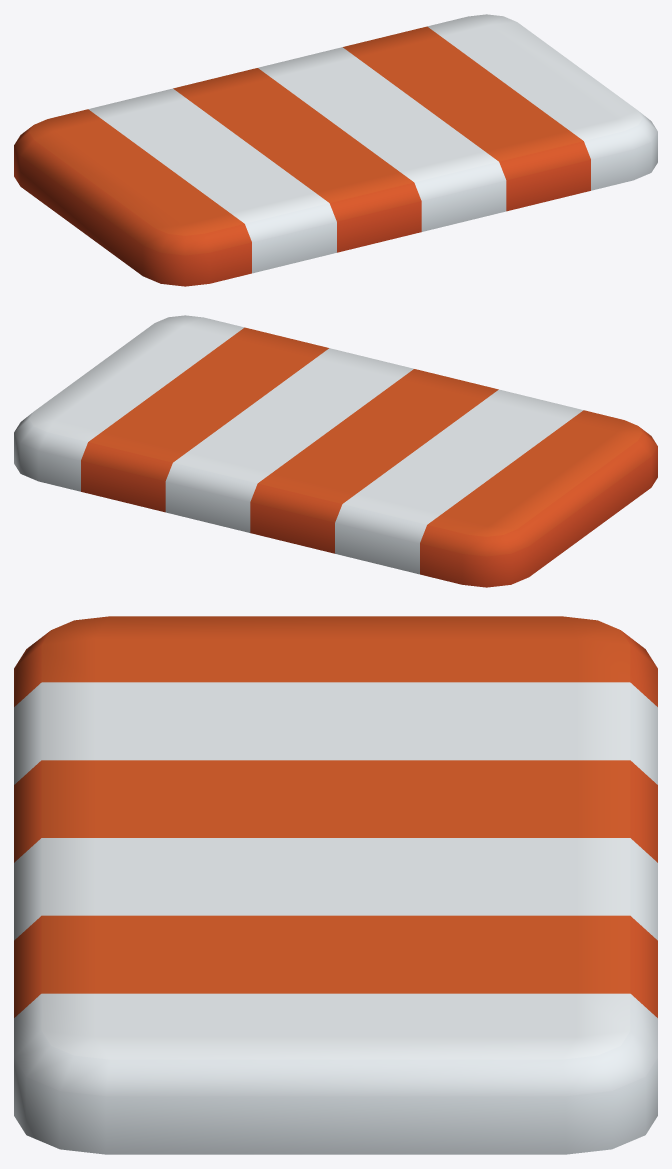
File: doormat.gltf
The picture shows the model from 3 angles, top to bottom: view 1: azimuth 30°, elevation 25°; view 2: azimuth 150°, elevation 25°; view 3: azimuth 270°, elevation 25°; orthographic projection. The views are drawn at different scales.
Parts seen in each view (by area): view 1: doormat; view 2: doormat; view 3: doormat.
Part boxes in pixels (x1,y1,x2,y2): doormat: (14, 14, 657, 286); doormat: (14, 315, 657, 587); doormat: (14, 616, 657, 1154).
Bounding box in the file's own units: 1.2 × 0.1 × 0.7.
Materials: 1 (1 with a texture image).
